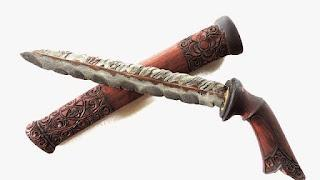facao: (20, 51, 304, 179)
